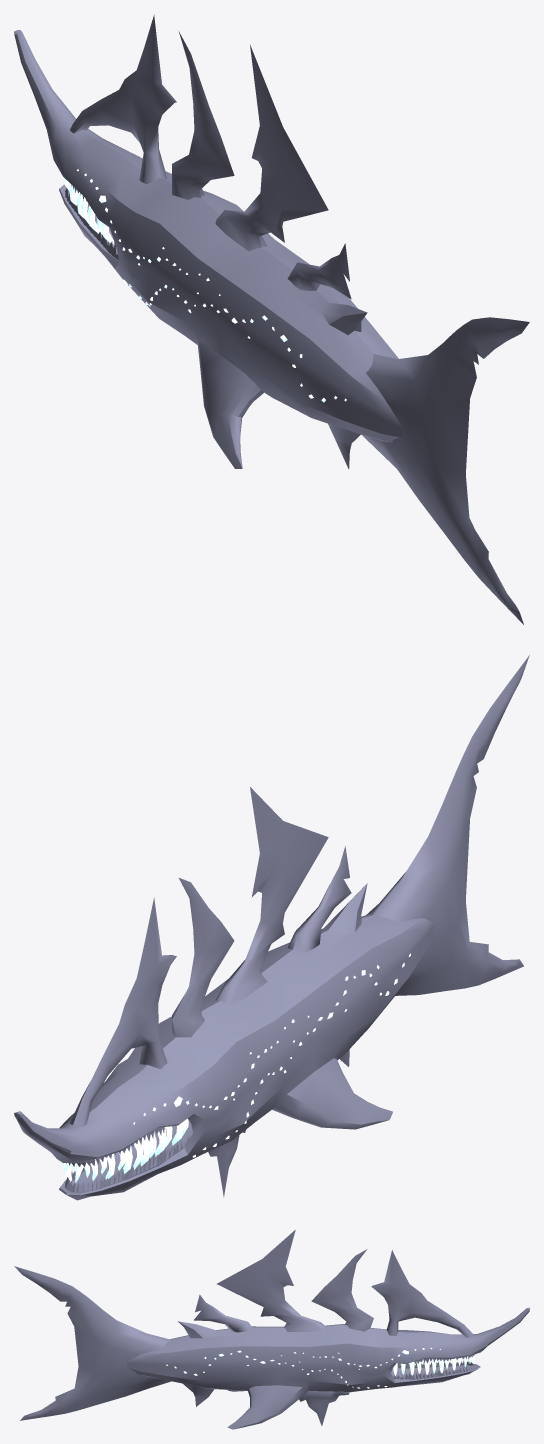
File: tasarim1.glb
The picture shows the model from 3 angles, top to bottom: view 1: azimuth 30°, elevation 25°; view 2: azimuth 150°, elevation 25°; view 3: azimuth 270°, elevation 25°; orthographic projection. The views are drawn at different scales.
Visible parts, largest first — view 1: Body, Fins; view 2: Body, Fins, Teeth, Rib Cage Large, Rib Cage, Eyes; view 3: Body, Fins, Teeth, Rib Cage Large, Eyes.
Part boxes in pixels (x1,y1,x2,y2): Body: (14,30,402,468); Fins: (70,14,529,624); Body: (14,883,433,1200); Fins: (70,655,529,1197); Teeth: (65,1126,189,1192); Rib Cage Large: (65,1121,184,1182); Rib Cage: (63,1118,188,1177); Eyes: (104,953,410,1157); Body: (126,1307,529,1429); Fins: (14,1230,473,1425); Teeth: (393,1354,475,1379); Rib Cage Large: (393,1355,475,1375); Eyes: (166,1347,440,1388).
Size of the model in its own units: 19.51 by 47.36 by 112.
